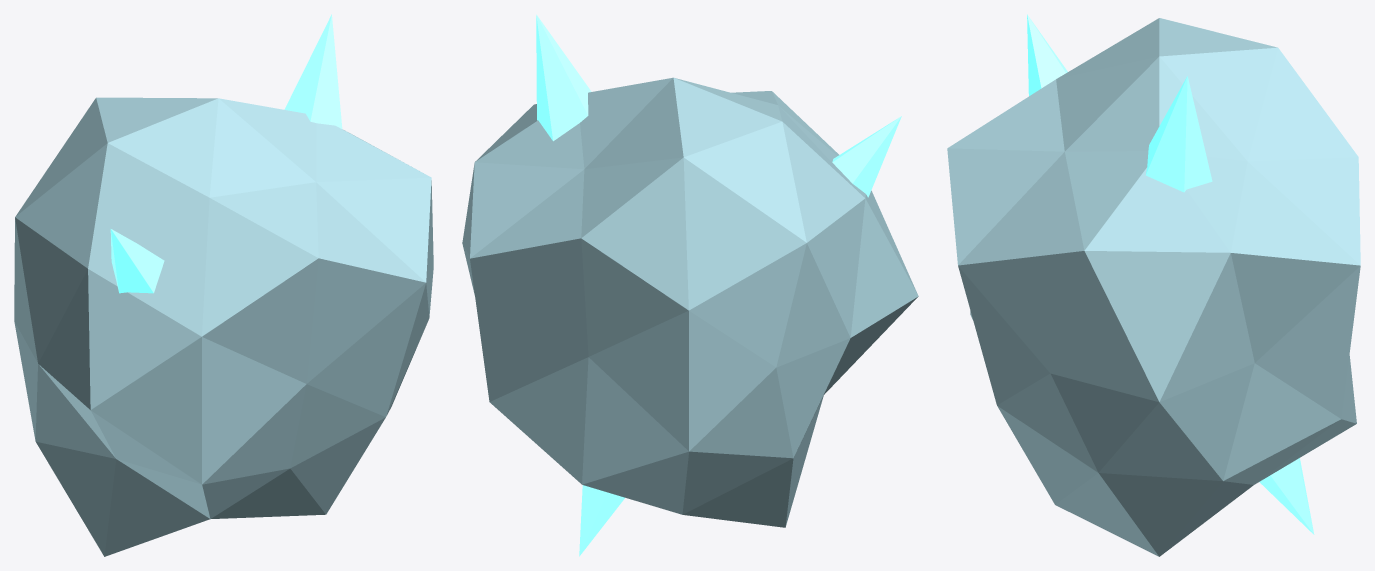
Rendered from ice-asteroid.glb.
The picture shows the model from 3 angles, left to right: view 1: azimuth 30°, elevation 25°; view 2: azimuth 150°, elevation 25°; view 3: azimuth 270°, elevation 25°; orthographic projection. The views are drawn at different scales.
Parts seen in each view (by area): view 1: ice-asteroid-ice, ice-asteroid-cyan; view 2: ice-asteroid-ice, ice-asteroid-cyan; view 3: ice-asteroid-ice, ice-asteroid-cyan.
Boxes of the visible parts, bbox=[...] form: ice-asteroid-ice: bbox=[14, 97, 433, 556]; ice-asteroid-cyan: bbox=[110, 14, 342, 293]; ice-asteroid-ice: bbox=[462, 77, 918, 527]; ice-asteroid-cyan: bbox=[536, 14, 901, 556]; ice-asteroid-ice: bbox=[947, 18, 1360, 556]; ice-asteroid-cyan: bbox=[1027, 14, 1314, 534].
Size of the model in its own units: 1.52 by 1.74 by 1.27.
